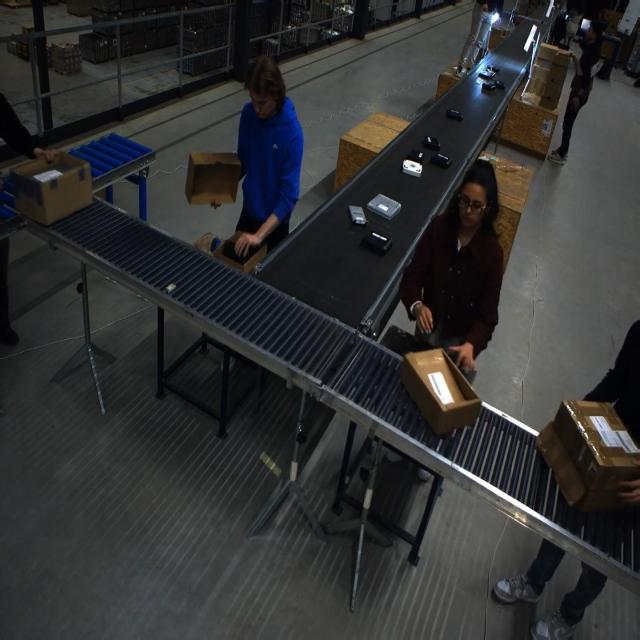box: (534, 397, 638, 510), (401, 348, 481, 436), (8, 151, 92, 226), (184, 151, 241, 205), (213, 231, 266, 275)
product: (366, 194, 400, 220), (359, 230, 393, 256), (348, 205, 367, 226), (429, 152, 453, 168), (402, 158, 422, 177), (422, 135, 441, 150), (409, 149, 425, 165), (445, 108, 463, 121), (481, 81, 495, 91), (478, 71, 495, 79), (485, 66, 499, 74), (494, 80, 505, 89)
